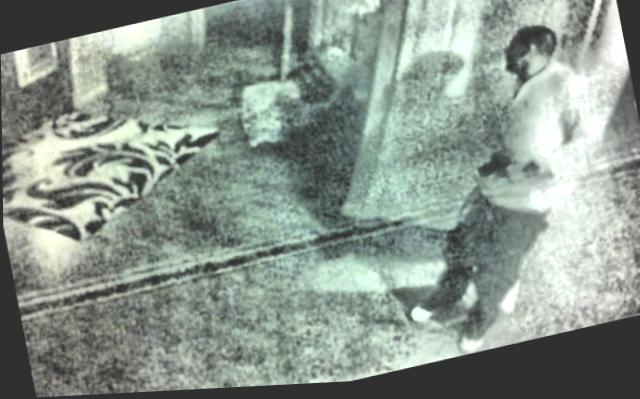pistol: (475, 152, 514, 190)
